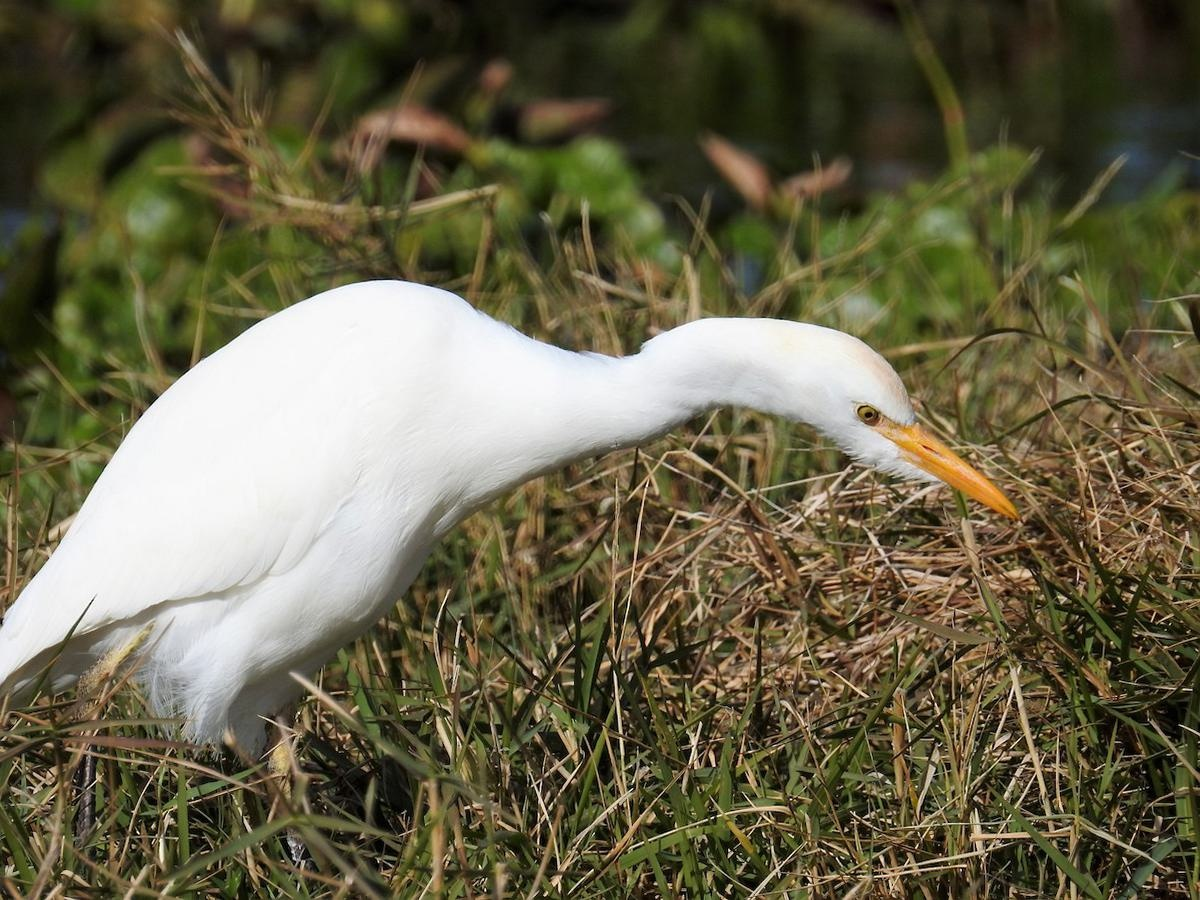egret: (1, 290, 1027, 727)
